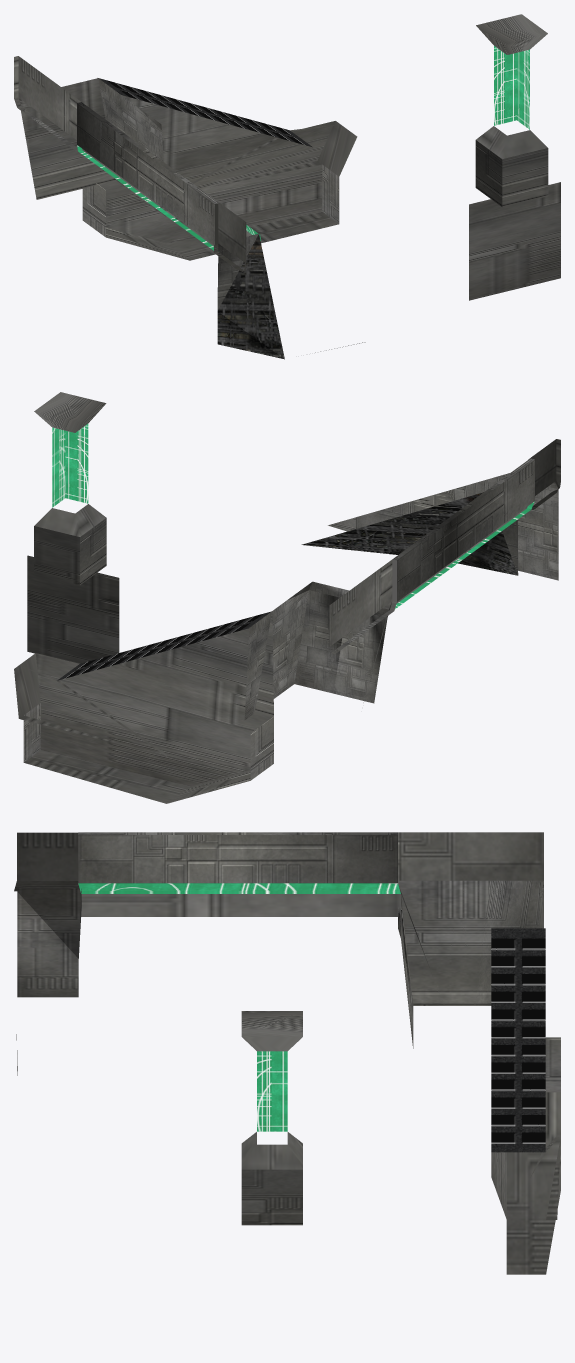
The model's file is room5.gltf.
3 renders of one model, top to bottom at view 1: azimuth 30°, elevation 25°; view 2: azimuth 150°, elevation 25°; view 3: azimuth 270°, elevation 25°, orthographic. The views are drawn at different scales.
Visible parts, largest first — view 1: polymsh13, polymsh_detached9, polymsh_detached106; view 2: polymsh_detached9, polymsh13, polymsh_detached106; view 3: polymsh13, polymsh_detached9, polymsh_detached106.
Boxes of the visible parts, <box> form: polymsh13: <box>14,56,365,359</box>; polymsh_detached9: <box>82,78,357,260</box>; polymsh_detached106: <box>469,14,560,300</box>; polymsh_detached9: <box>14,611,273,803</box>; polymsh13: <box>244,439,560,719</box>; polymsh_detached106: <box>27,392,119,663</box>; polymsh13: <box>14,832,543,1075</box>; polymsh_detached9: <box>491,928,560,1274</box>; polymsh_detached106: <box>241,1011,302,1225</box>.
Bounding box in the file's own units: 18.56 × 10.71 × 17.79.
Materials: 4 (4 with a texture image).
